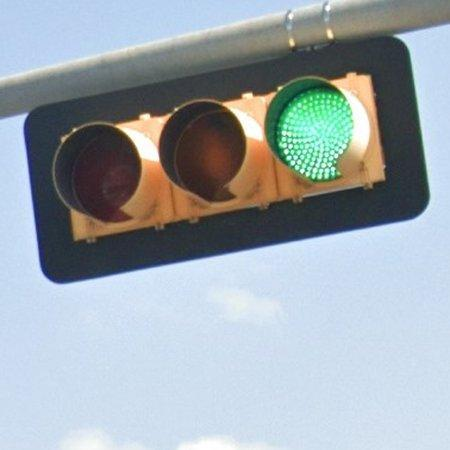traffic lights: (22, 35, 429, 285)
